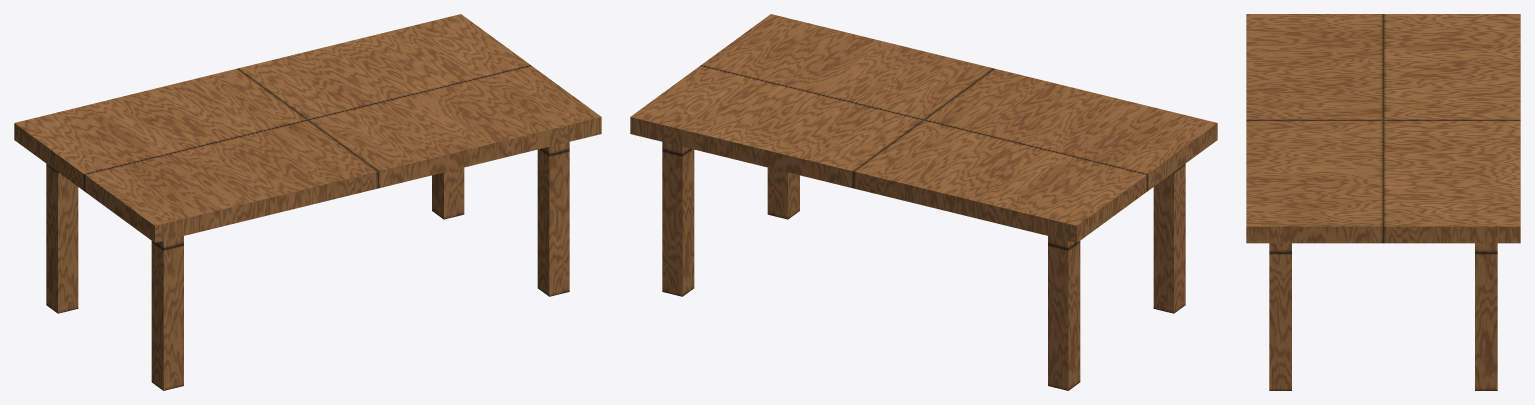
Rendered from Dohanyzoasztal.obj.
3 views of the same model, side by side, from view 1: azimuth 30°, elevation 25°; view 2: azimuth 150°, elevation 25°; view 3: azimuth 270°, elevation 25° (orthographic). The views are drawn at different scales.
Size of the model in its own units: 1.1 by 0.42 by 0.6.
Materials: 1 (1 with a texture image).
